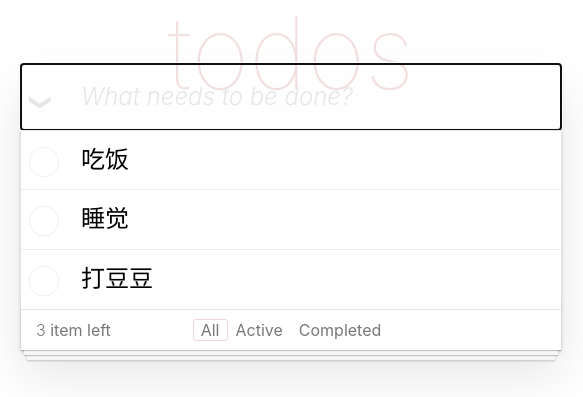
it: 展示剩余任务的数量 › 展示所有剩余未完成任务数量
Click the checkbox with test id "todo-done" next to "睡觉": (41, 220) [21,190,61,249]
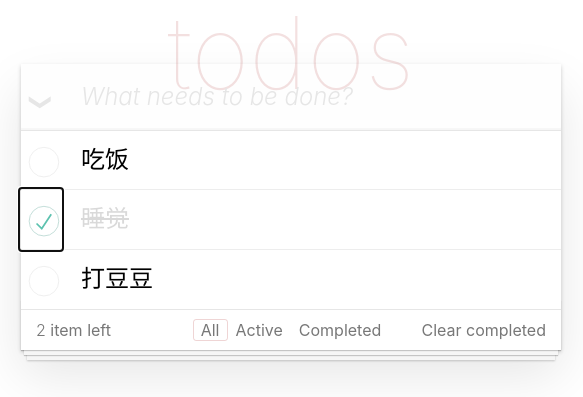
Result: the text with test id "remaining" reads "2" at [36,320,46,340]
